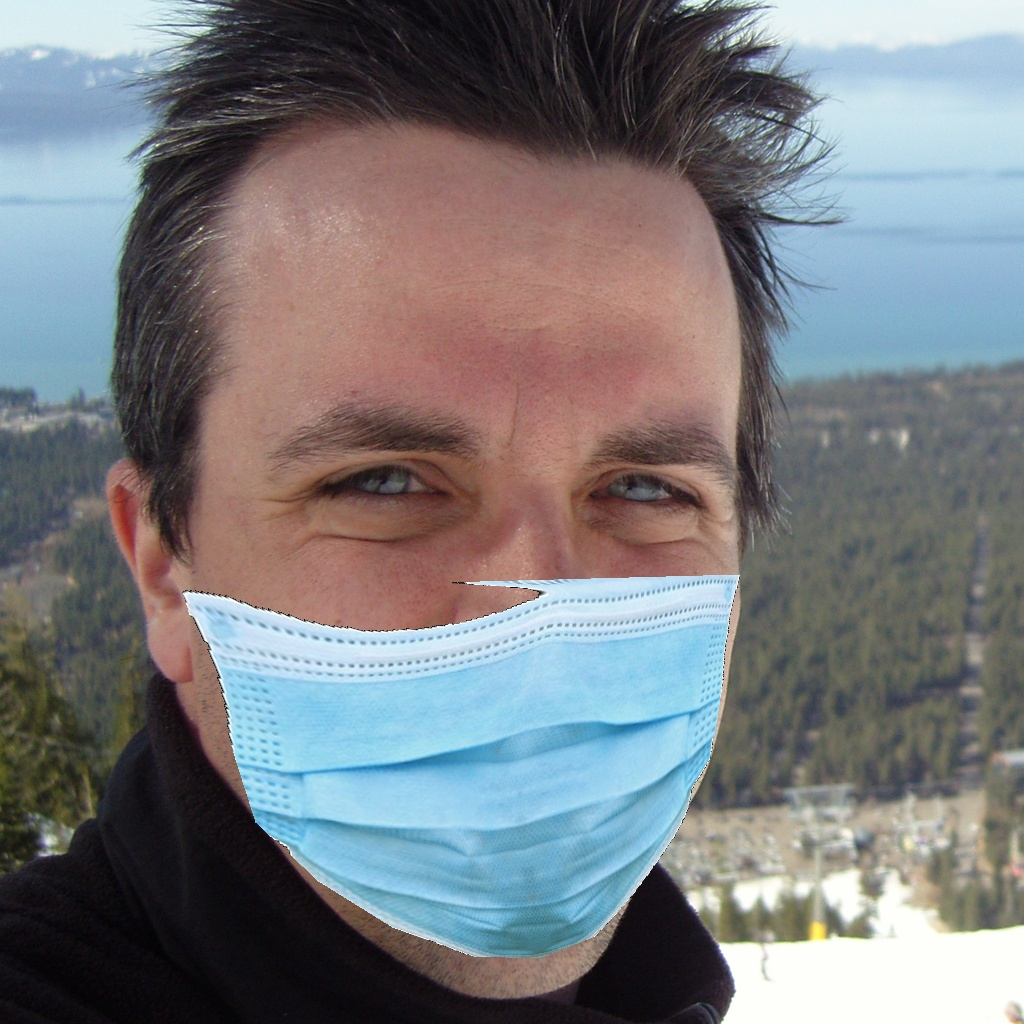Mask: (183, 400, 746, 958)
